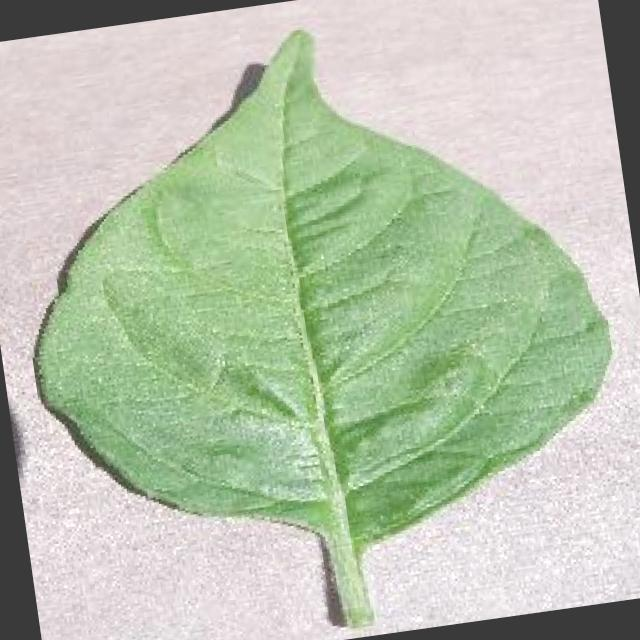Leaf: (48, 32, 498, 477)
